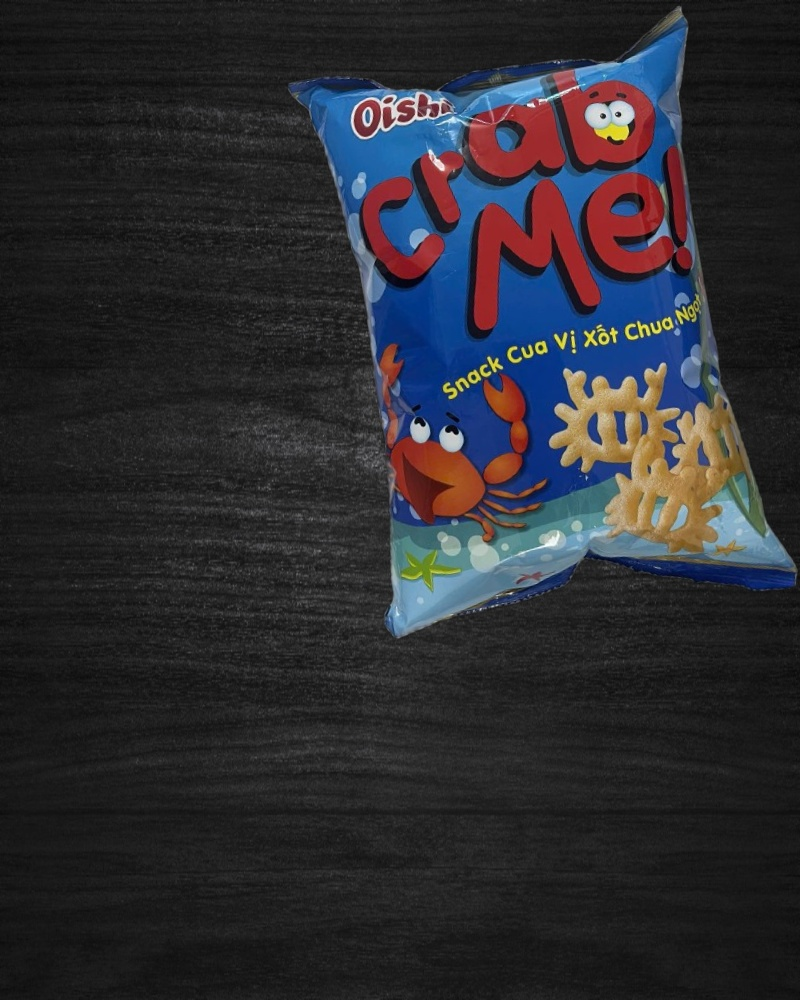Snack chay: (286, 3, 800, 661)
